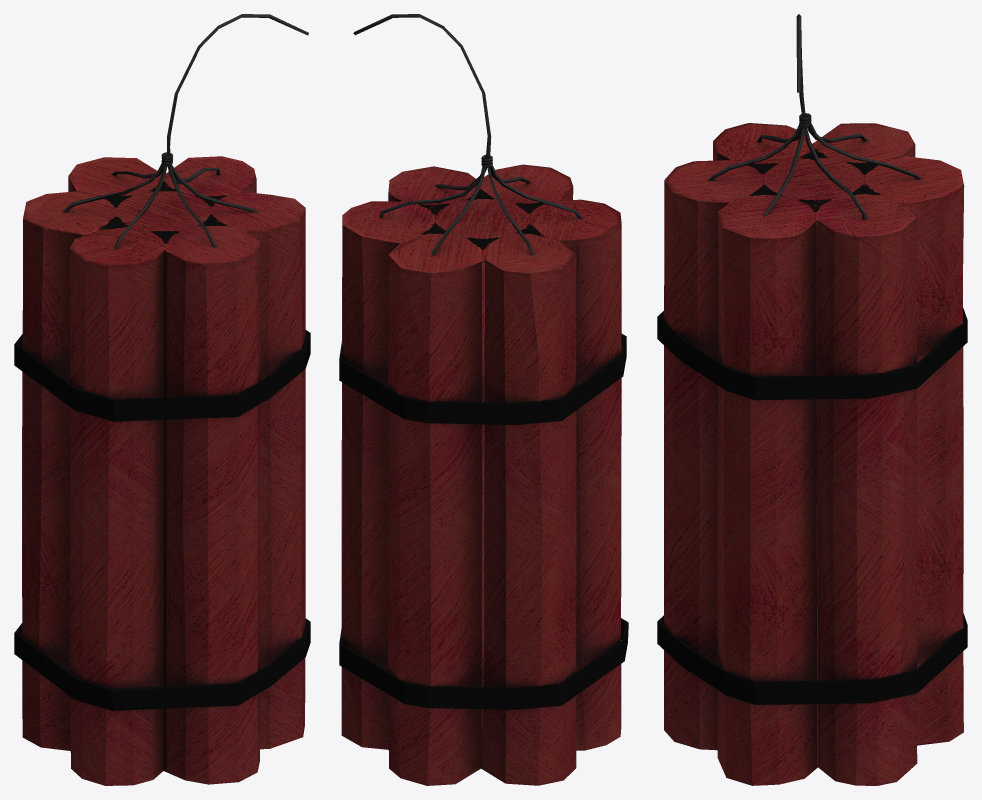
Rendered from dinamite.obj.
The picture shows the model from 3 angles, left to right: view 1: azimuth 30°, elevation 25°; view 2: azimuth 150°, elevation 25°; view 3: azimuth 270°, elevation 25°; orthographic projection. The views are drawn at different scales.
Parts seen in each view (by area): view 1: dinamite_Plane.001; view 2: dinamite_Plane.001; view 3: dinamite_Plane.001.
Part boxes in pixels (x1,y1,x2,y2): dinamite_Plane.001: (14, 14, 310, 785); dinamite_Plane.001: (339, 14, 628, 785); dinamite_Plane.001: (657, 14, 967, 785).
Bounding box in the file's own units: 1.02 × 2.71 × 1.02.
Materials: 1 (1 with a texture image).
